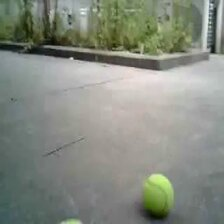tennis: (142, 174, 174, 215)
